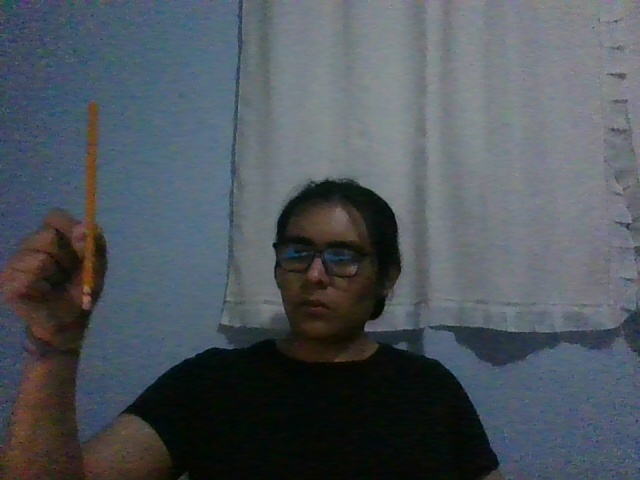lapiz: (81, 101, 100, 310)
